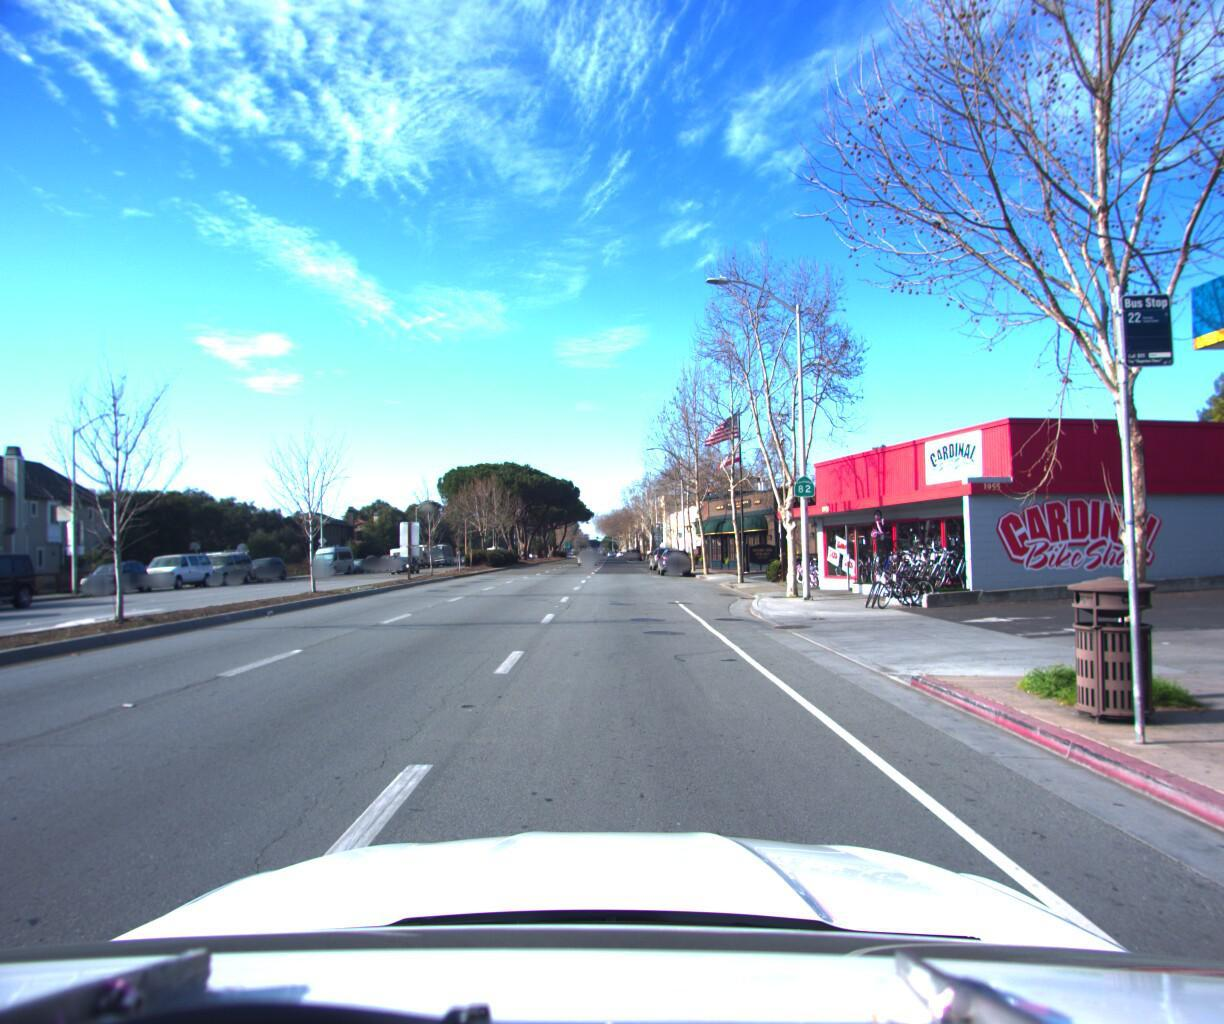bicycle: (867, 561, 932, 606), (860, 561, 923, 605), (915, 537, 976, 582), (853, 561, 915, 604), (923, 535, 985, 578), (908, 540, 968, 582), (900, 540, 959, 580), (893, 541, 951, 581), (881, 544, 932, 580), (875, 544, 921, 580), (869, 544, 901, 579), (857, 545, 889, 579), (801, 556, 828, 584)
car: (132, 548, 222, 590), (0, 552, 54, 620), (75, 555, 159, 598), (185, 545, 259, 586), (305, 538, 359, 574), (238, 552, 292, 581), (657, 540, 694, 574), (0, 567, 12, 646), (648, 539, 680, 567), (388, 550, 424, 571), (575, 544, 596, 560)
